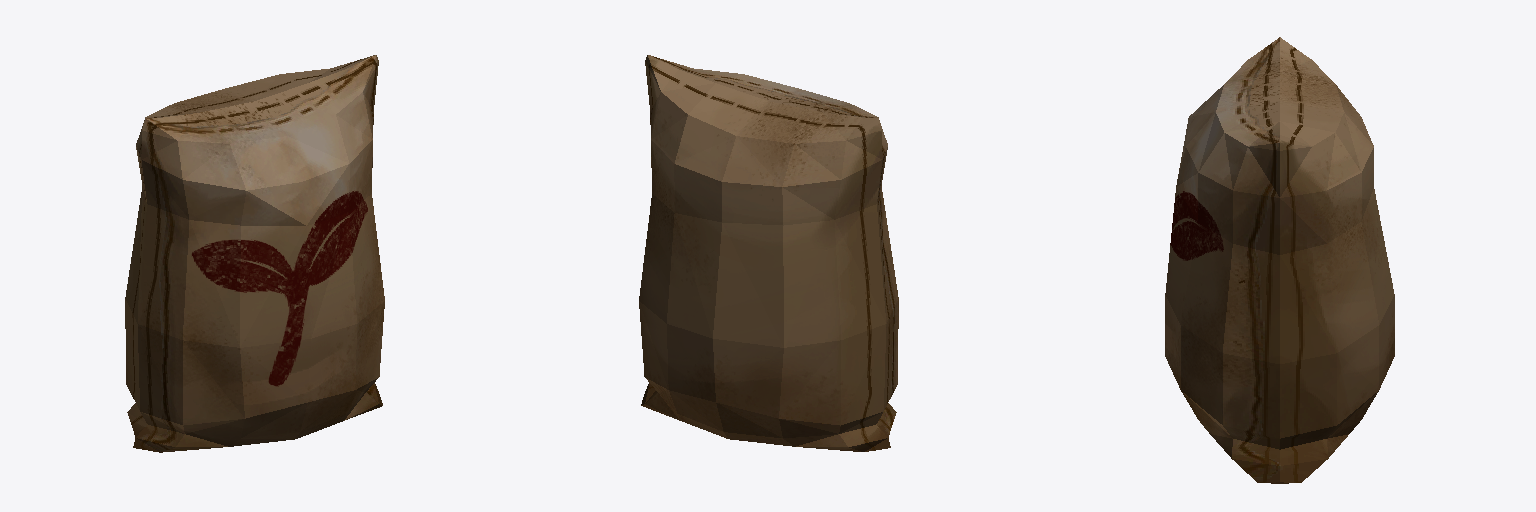
3 views of the same model, side by side, from view 1: azimuth 30°, elevation 25°; view 2: azimuth 150°, elevation 25°; view 3: azimuth 270°, elevation 25° (orthographic).
Parts seen in each view (by area): view 1: fertiliserbag_mesh; view 2: fertiliserbag_mesh; view 3: fertiliserbag_mesh.
Part boxes in pixels (bbox=[...]): fertiliserbag_mesh: bbox=[125, 55, 384, 452]; fertiliserbag_mesh: bbox=[639, 55, 898, 451]; fertiliserbag_mesh: bbox=[1165, 37, 1394, 483].
Bounding box in the file's own units: 39.46 × 52.74 × 31.87.
Materials: 1 (1 with a texture image).